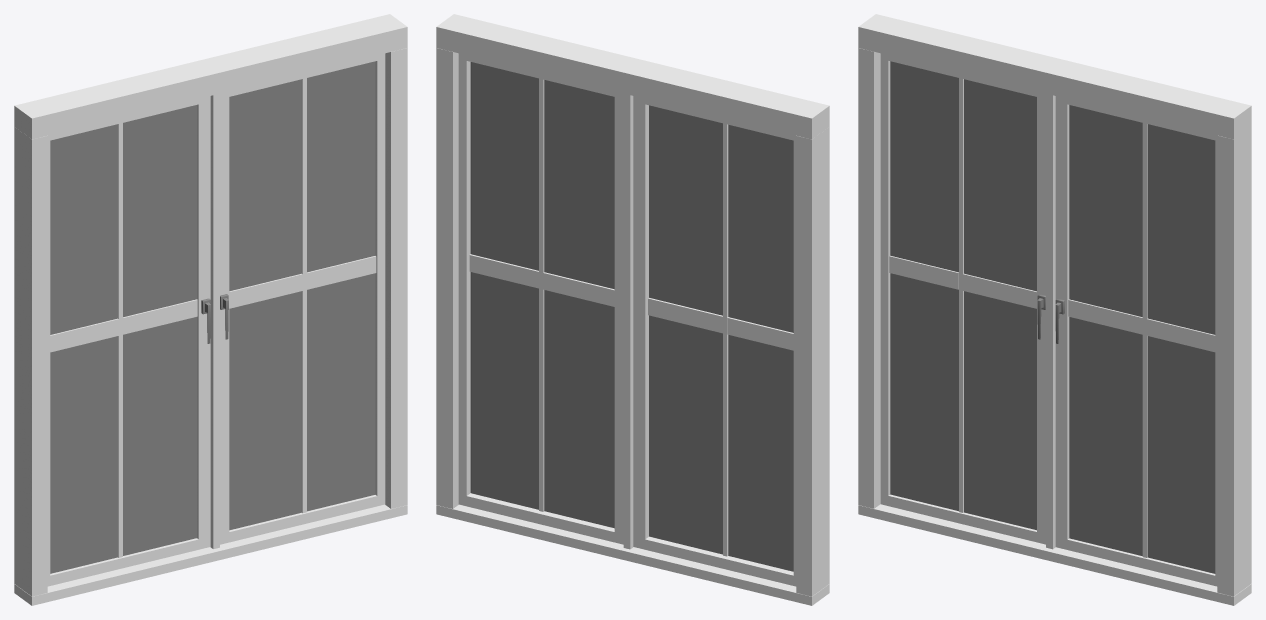
File: Balcony door.fbx
3 views of the same model, side by side, from view 1: azimuth 30°, elevation 25°; view 2: azimuth 150°, elevation 25°; view 3: azimuth 330°, elevation 25° (orthographic).
Parts seen in each view (by area): view 1: Side B balcony door, Side A balcony door, door frame; view 2: Side B balcony door, Side A balcony door, door frame; view 3: Side A balcony door, Side B balcony door, door frame.
Boxes of the visible parts, <box> form: Side B balcony door: <box>220,53,385,544</box>; Side A balcony door: <box>47,96,210,586</box>; door frame: <box>14,14,407,605</box>; Side B balcony door: <box>458,53,623,544</box>; Side A balcony door: <box>633,96,796,586</box>; door frame: <box>436,14,829,605</box>; Side A balcony door: <box>880,53,1045,544</box>; Side B balcony door: <box>1055,96,1217,586</box>; door frame: <box>858,14,1251,605</box>.
Bounding box in the file's own units: 188 × 233 × 15.29.
3 materials, 1 textured.
